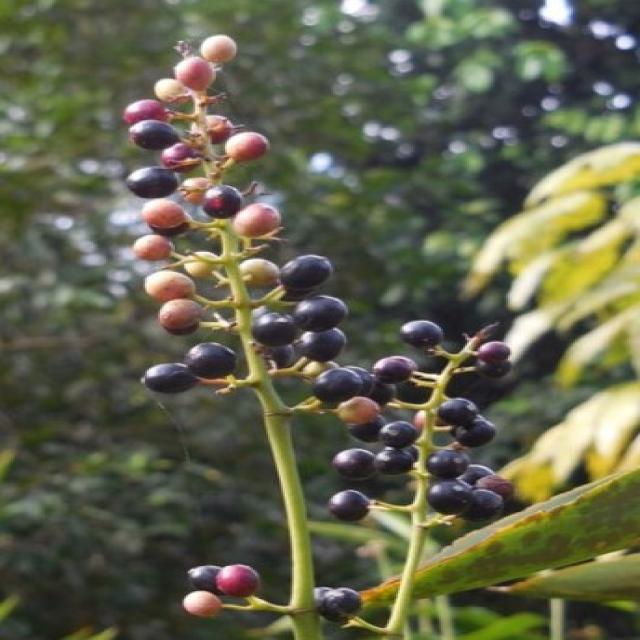Aquatic-Ginger: (123, 33, 513, 624)
